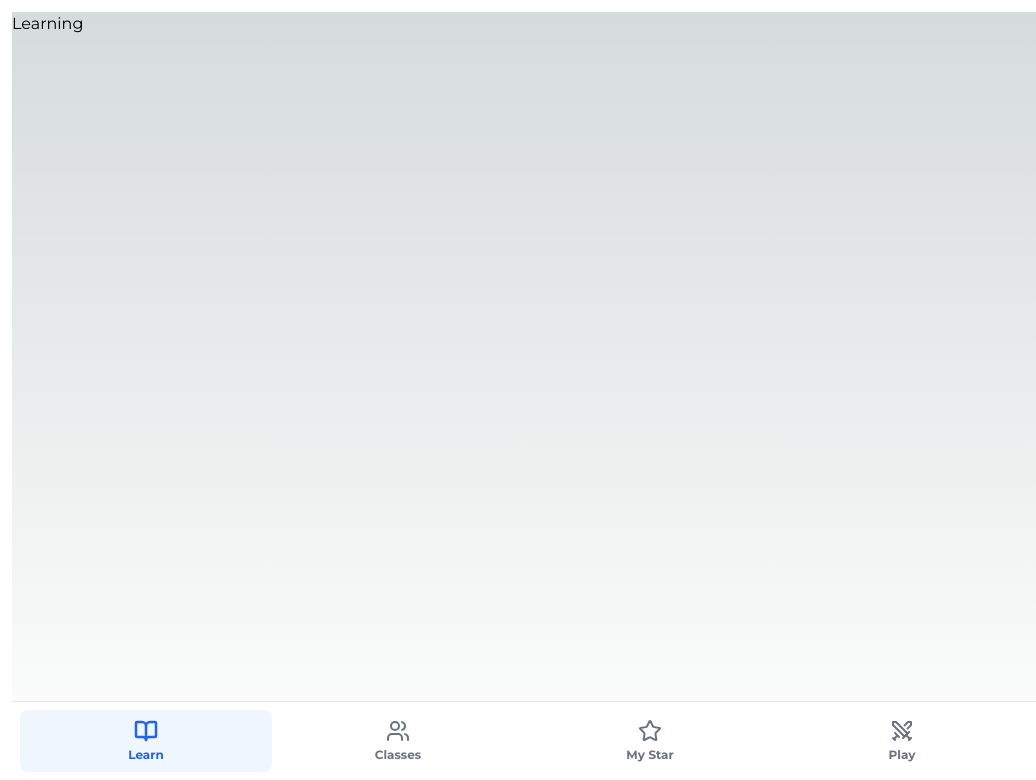
#744 — student class memberships › treats a malformed response as a failure
Click the button with test id "nav-classes" at (398, 741), box [272,710,524,772]
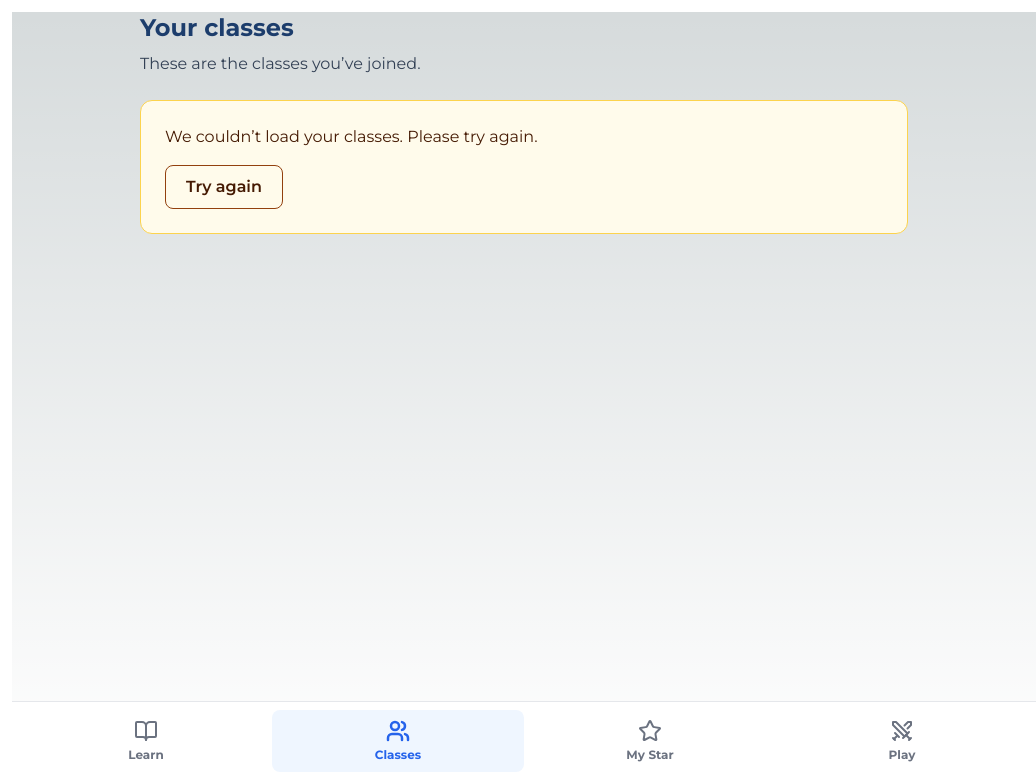
Expected: the message shows "We couldn’t load your classes", [165,127,538,146]
